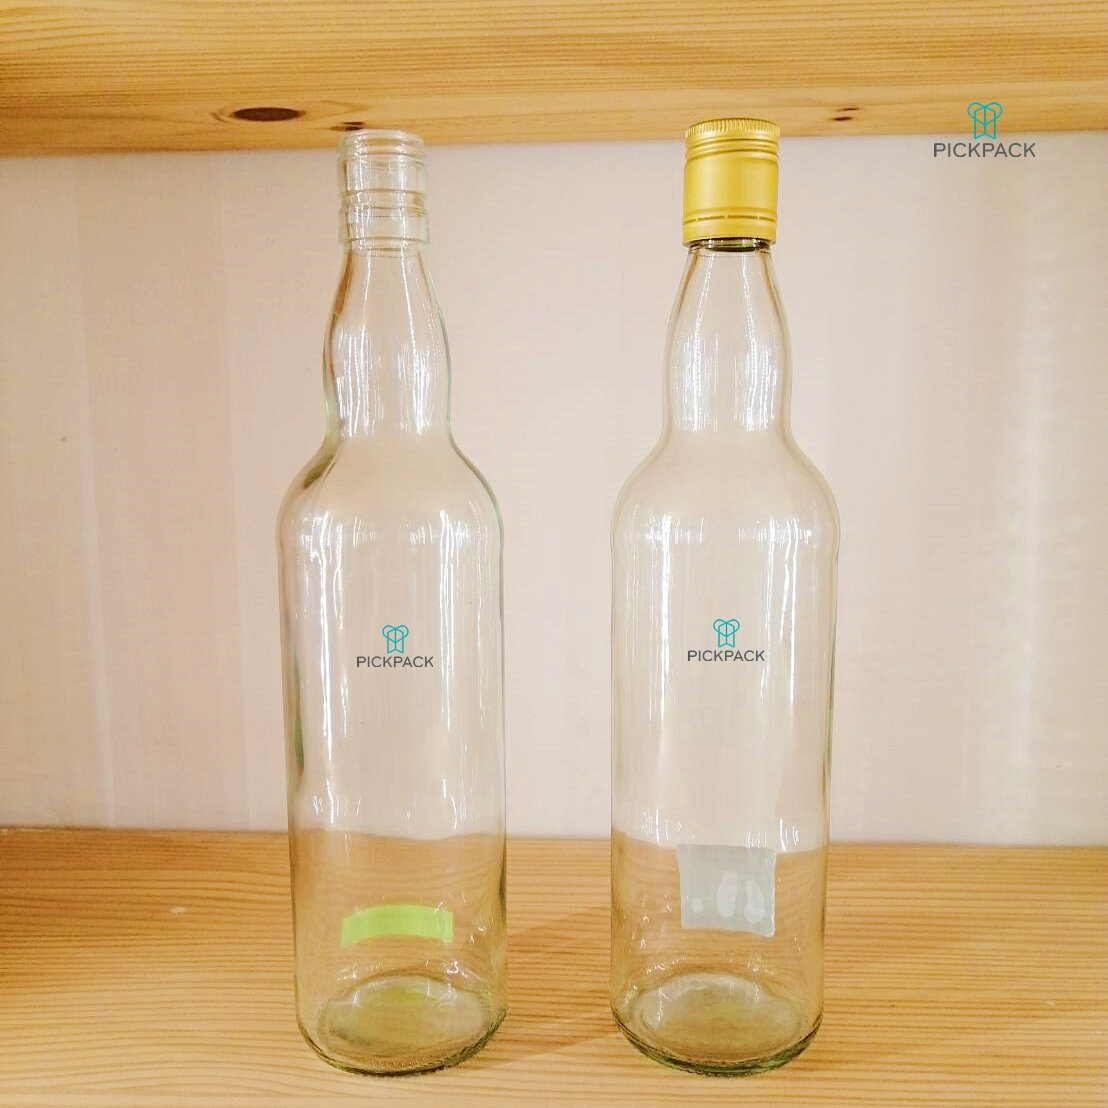glass_bottle: (578, 113, 872, 1093), (258, 122, 541, 1089)
